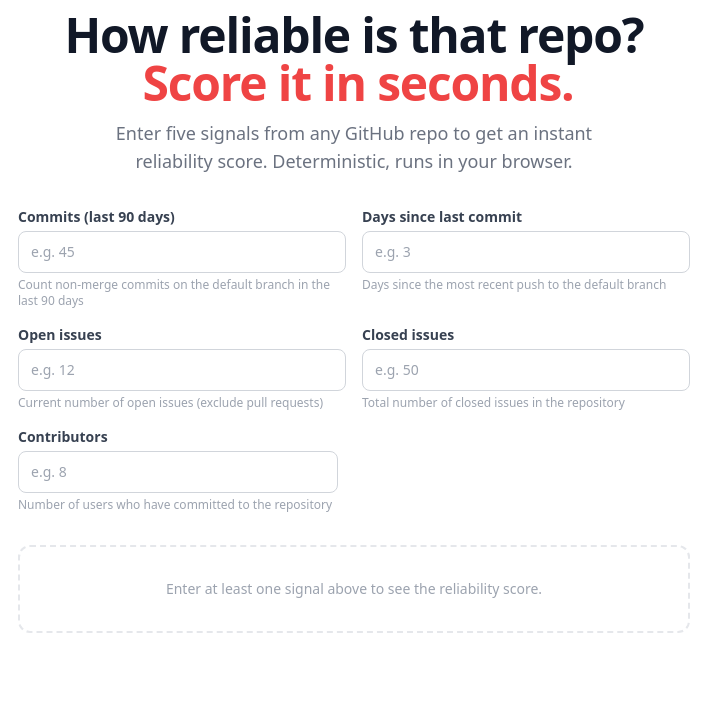
Test: Hero › displays reliability band label (Critical/Warning/Healthy) when score is shown
The image size is (707, 709).
Type "100" into the number field labelled "Commits (last 90 days)" at (182, 252), box [18,231,346,273]
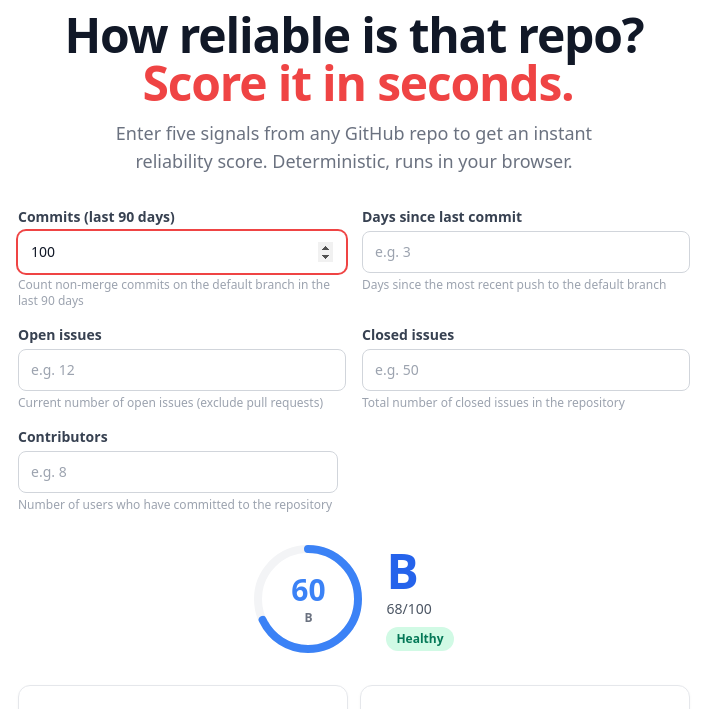
expect the text named "reliability band:" is shown: met, box [386,627,454,651]
expect the text named "reliability band:" reads "Healthy": met, box [396,630,444,647]
